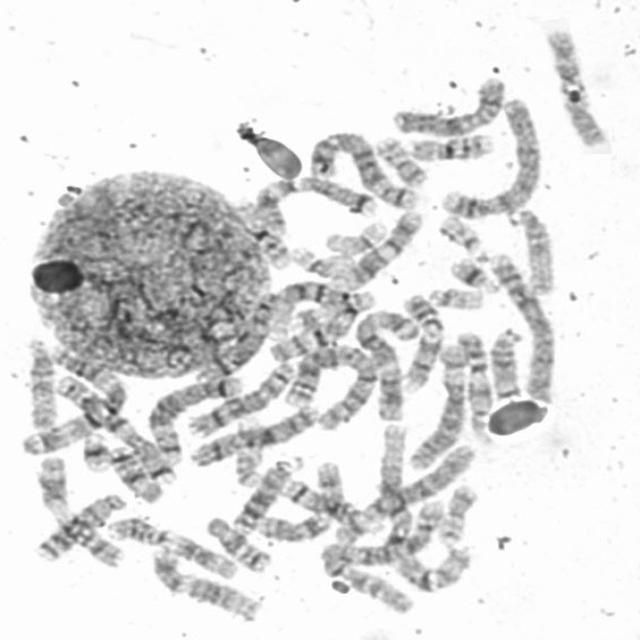A1: (377, 427, 470, 593), (264, 274, 356, 365)
A2: (327, 503, 449, 611), (282, 341, 383, 432)
A3: (17, 343, 131, 457), (347, 304, 420, 424)
B4: (436, 91, 544, 221), (487, 250, 558, 405)
B5: (303, 125, 421, 211), (145, 370, 244, 466)
C10: (542, 22, 610, 149), (252, 457, 346, 543)
C11: (32, 451, 127, 568), (101, 510, 243, 580)
C12: (146, 542, 264, 623), (326, 205, 424, 291)
C6: (326, 441, 476, 547), (426, 345, 494, 480)
C7: (51, 371, 180, 485), (248, 172, 382, 235)
C8: (183, 355, 297, 439), (192, 288, 279, 384)
C9: (397, 289, 447, 392), (454, 326, 494, 439)
D13: (32, 489, 129, 563), (228, 452, 305, 537)
D14: (278, 475, 388, 538), (487, 324, 528, 399)
D15: (505, 201, 557, 298), (20, 333, 59, 432)
E16: (230, 200, 293, 273), (404, 128, 497, 163)
E17: (285, 292, 372, 331), (229, 418, 266, 488)
E18: (200, 512, 274, 574), (103, 440, 165, 505)
F19: (319, 216, 390, 256), (285, 241, 355, 281)
F20: (371, 131, 431, 189), (432, 480, 480, 547)
G21: (443, 251, 502, 294), (76, 427, 115, 472)
G22: (434, 210, 490, 260), (423, 282, 487, 311)
X: (186, 400, 324, 470), (386, 72, 509, 138)
